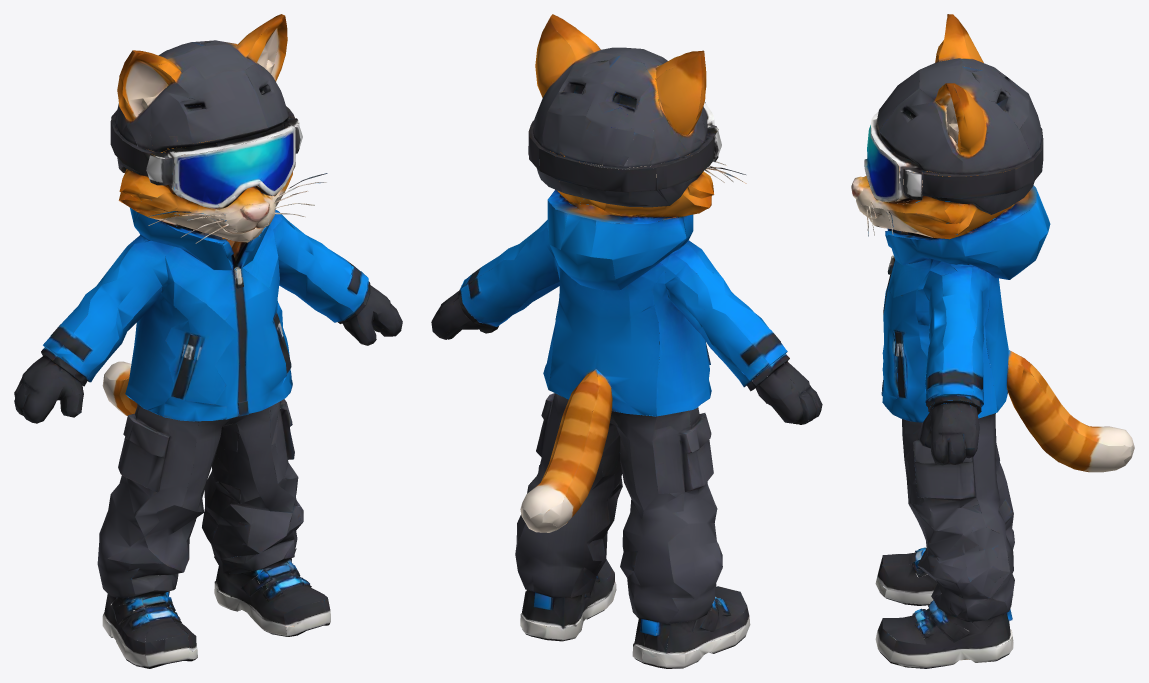
File: rider_cat_gen.glb
3 views of the same model, side by side, from view 1: azimuth 30°, elevation 25°; view 2: azimuth 150°, elevation 25°; view 3: azimuth 270°, elevation 25° (orthographic). The views are drawn at different scales.
Visible parts, largest first — view 1: rider_cat_gen; view 2: rider_cat_gen; view 3: rider_cat_gen.
Part boxes in pixels (<box>): rider_cat_gen: <box>14,14,402,668</box>; rider_cat_gen: <box>431,14,822,668</box>; rider_cat_gen: <box>851,14,1134,668</box>.
Bounding box in the file's own units: 1.23 × 1.85 × 0.8255.
Materials: 1 (1 with a texture image).
